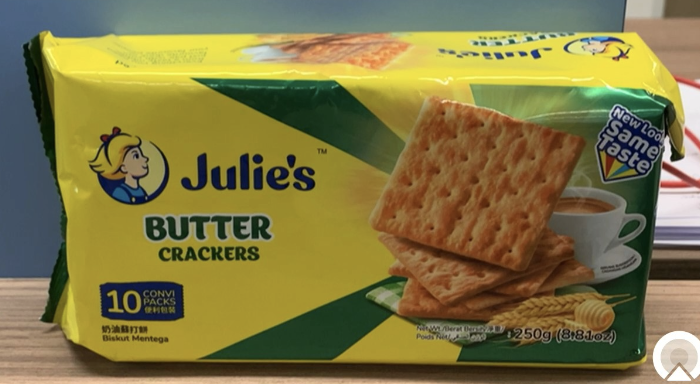crackers_200g-299g: (86, 104, 653, 346)
